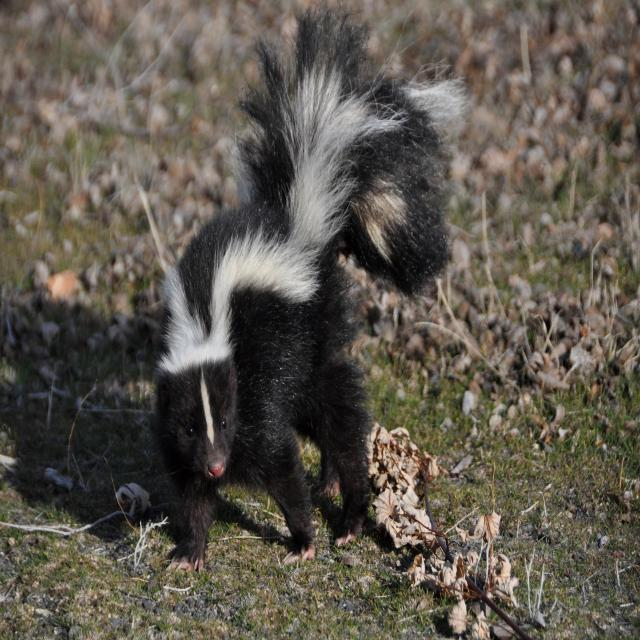Skunk: (123, 0, 462, 563)
